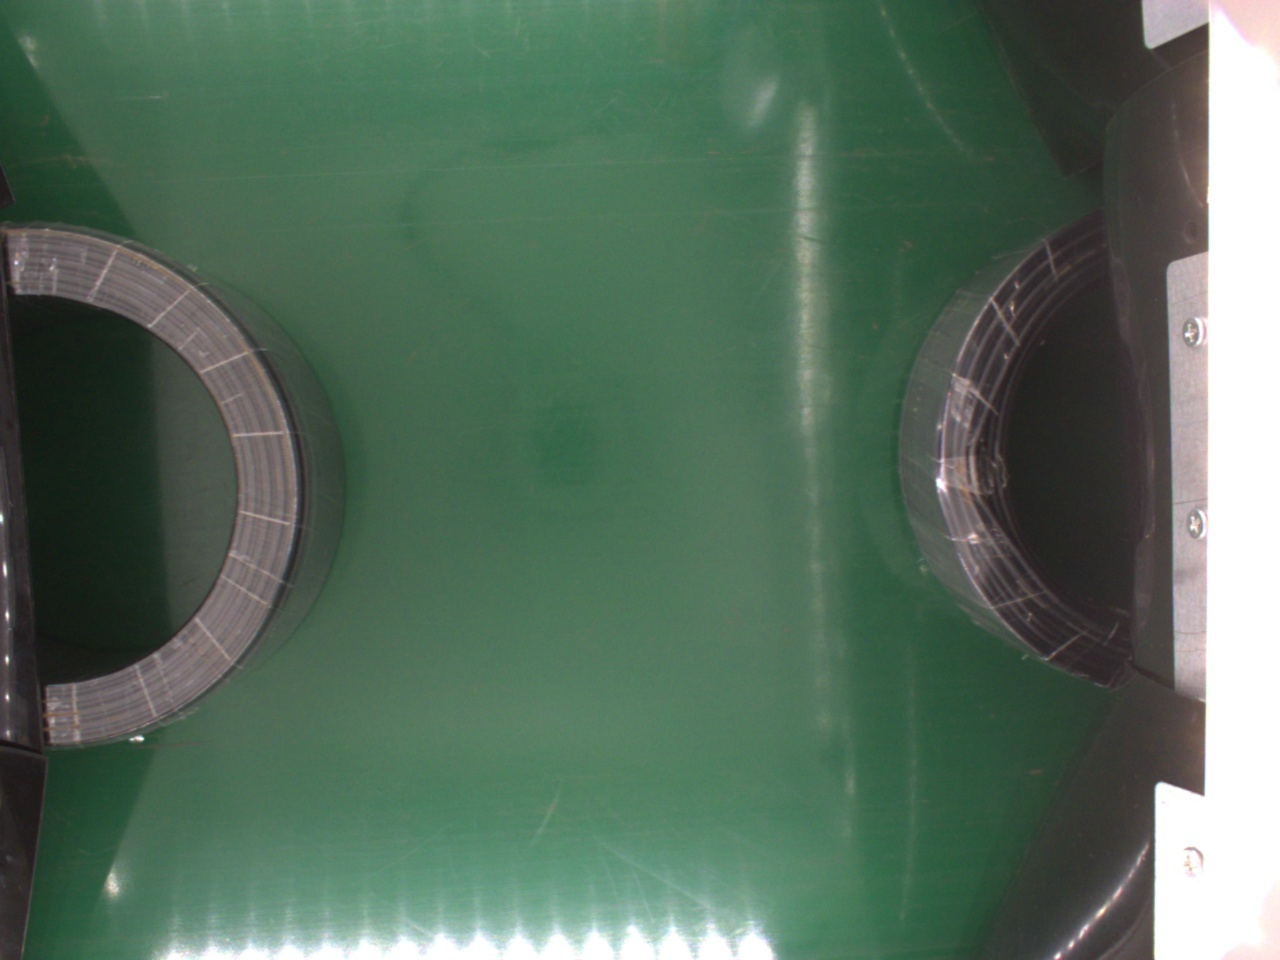black: (10, 219, 322, 751), (898, 216, 1133, 686)
